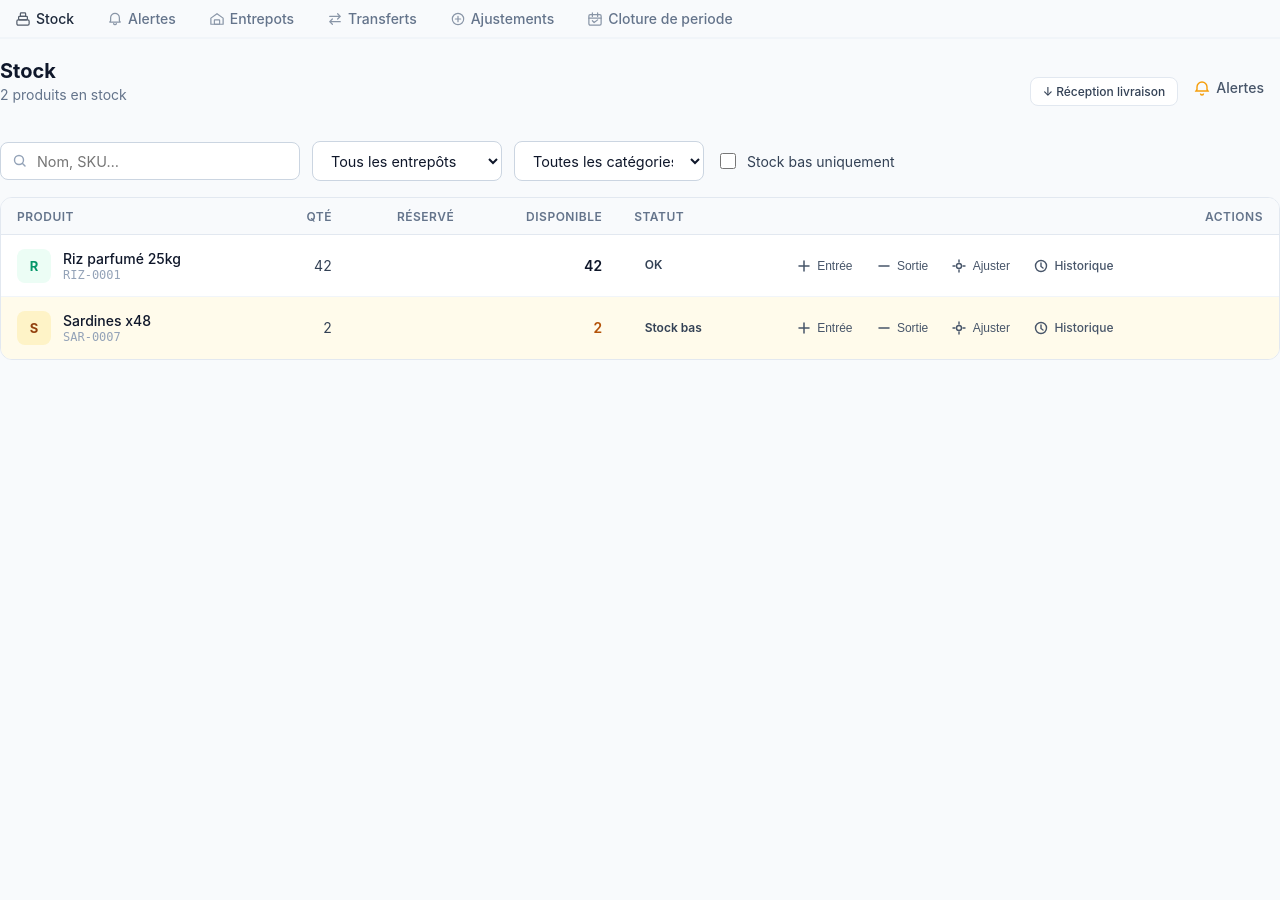
Test: StockListView › opens the stock-movement modal when "Entrée" is clicked
The width and height of the screenshot is (1280, 900).
Click the button "Entrée" in the row of "Riz parfumé 25kg": point(825, 266) [785,253,865,278]
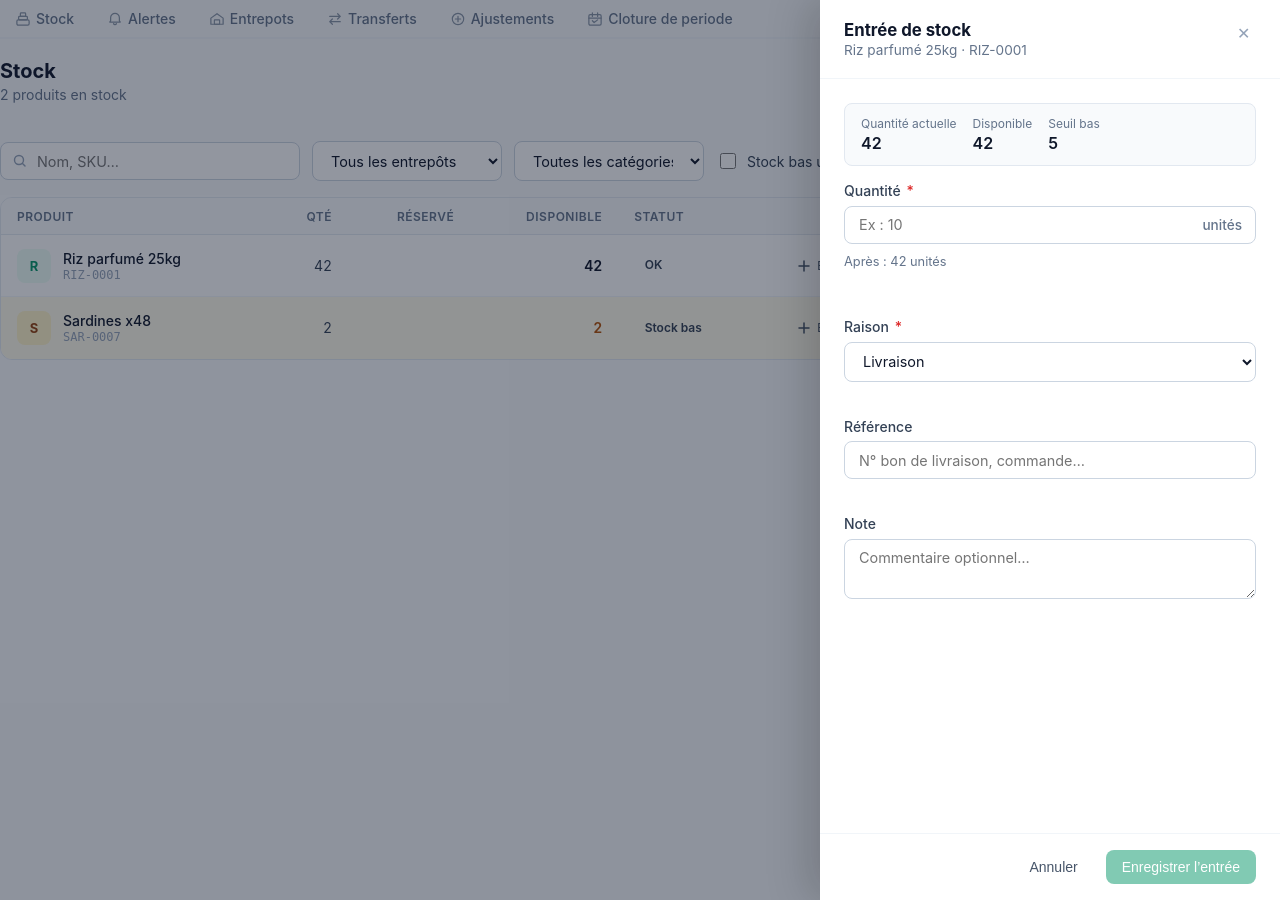
Check: the dialog is shown, box [820,0,1279,899]
Check: the dialog shows "Entrée de stock", box [844,20,971,40]
